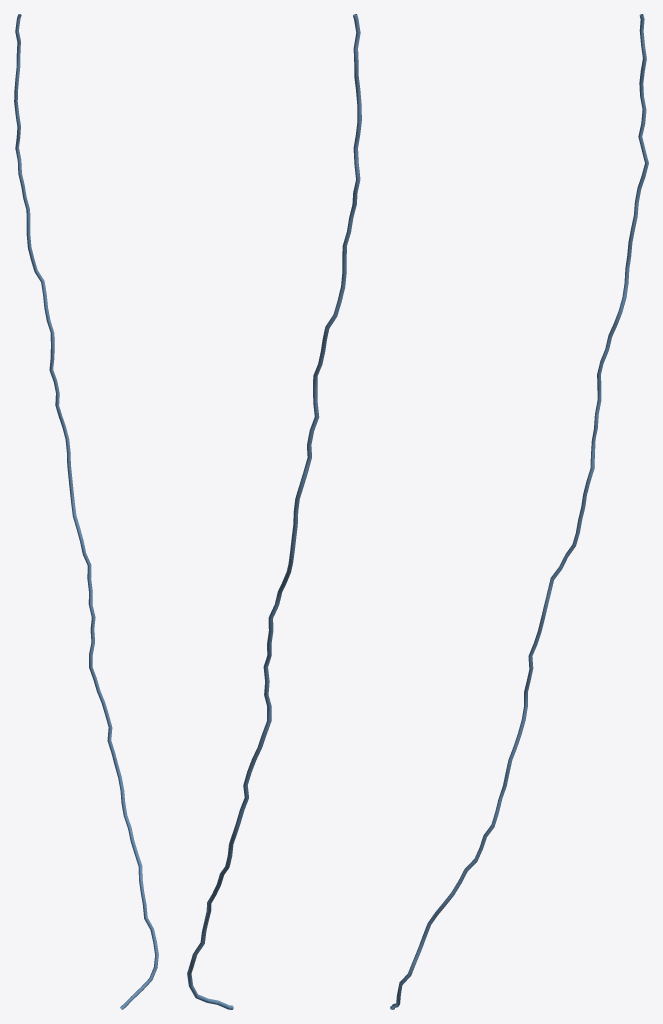
The model's file is sweep310.fbx.
3 renders of one model, left to right at view 1: azimuth 30°, elevation 25°; view 2: azimuth 210°, elevation 25°; view 3: azimuth 270°, elevation 25°, orthographic. The views are drawn at different scales.
Parts seen in each view (by area): view 1: sweep310; view 2: sweep310; view 3: sweep310.
Boxes of the visible parts, box(x1,y1,x2,y2) form: sweep310: box(14, 14, 158, 1009); sweep310: box(187, 14, 361, 1009); sweep310: box(390, 14, 648, 1009).
Bounding box in the file's own units: 0.2844 × 5.32 × 1.25.
